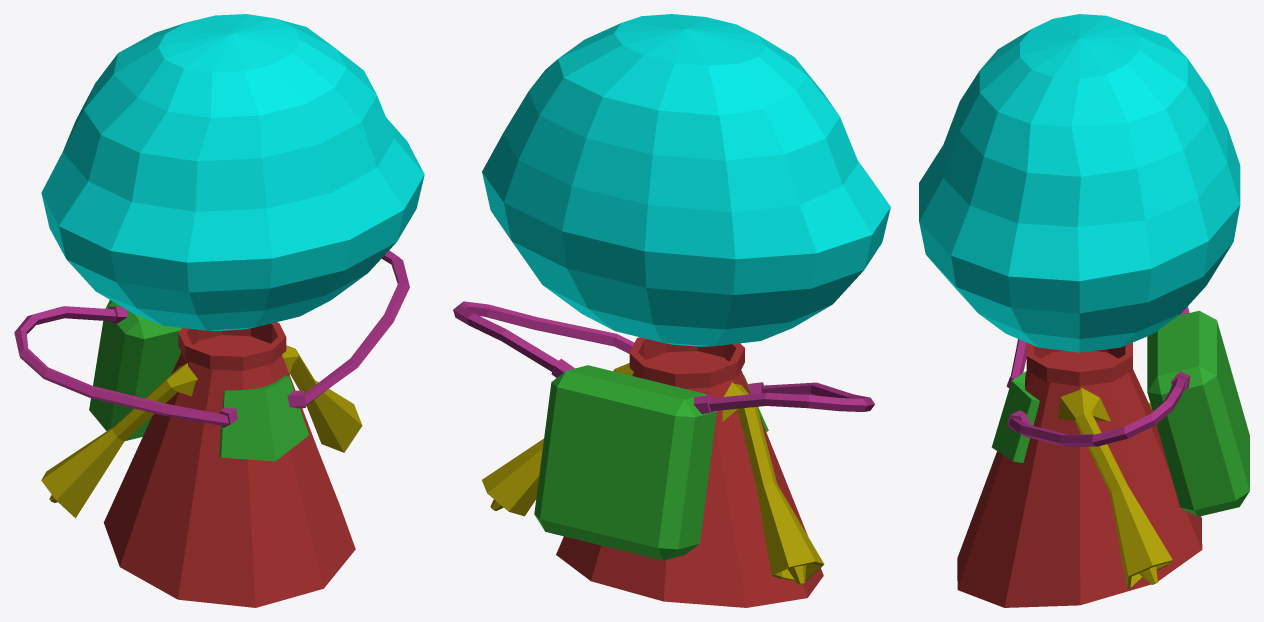
File: Astronaut.fbx
3 views of the same model, side by side, from view 1: azimuth 30°, elevation 25°; view 2: azimuth 150°, elevation 25°; view 3: azimuth 270°, elevation 25° (orthographic). The views are drawn at different scales.
Visible parts, largest first — view 1: head, body, right_arm, right_tube, left_arm, left_tube; view 2: head, body, right_arm, left_tube, right_tube, left_arm; view 3: head, body, left_arm, left_tube, right_tube.
Part boxes in pixels (left/top/right/bottom): head: left=41, top=14, right=424, bottom=330; body: left=89, top=300, right=355, bottom=607; right_arm: left=41, top=363, right=197, bottom=518; right_tube: left=14, top=306, right=237, bottom=427; left_arm: left=282, top=345, right=362, bottom=452; left_tube: left=287, top=250, right=409, bottom=408; head: left=482, top=14, right=890, bottom=346; body: left=534, top=337, right=823, bottom=607; right_arm: left=722, top=382, right=824, bottom=584; left_tube: left=453, top=301, right=634, bottom=377; right_tube: left=693, top=382, right=874, bottom=413; left_arm: left=482, top=363, right=633, bottom=516; head: left=919, top=14, right=1240, bottom=352; body: left=957, top=310, right=1249, bottom=607; left_arm: left=1058, top=387, right=1172, bottom=589; left_tube: left=1006, top=371, right=1190, bottom=446; right_tube: left=1006, top=306, right=1189, bottom=387.
Bounding box in the file's own units: 3.86 × 5.02 × 2.8.
